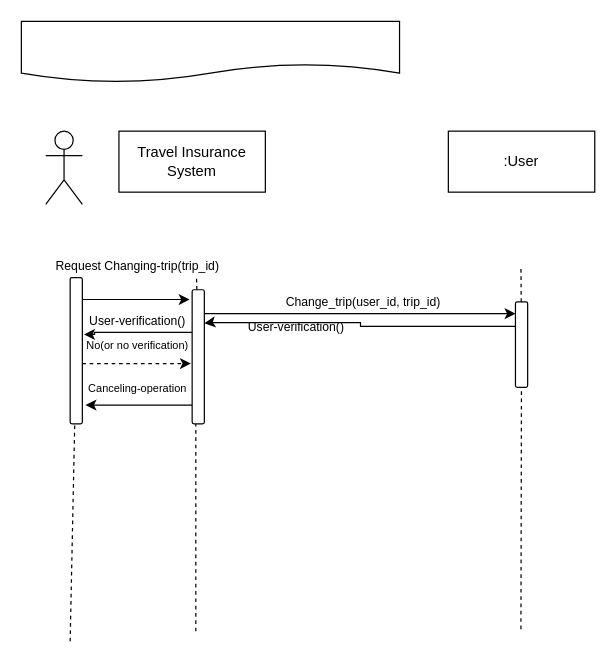
Image size: 616x665. Some labels were removed from this diagram. The shapes that lost their labels are listed below. From the top down, each one's centre as x and y in pixels, then its label:
(x=210, y=51): sd Change Trip: User doesn't verify his/her request
(x=63, y=167): A User
